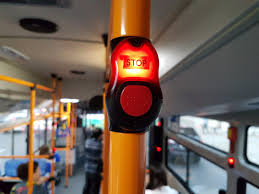bell: (104, 35, 165, 134)
